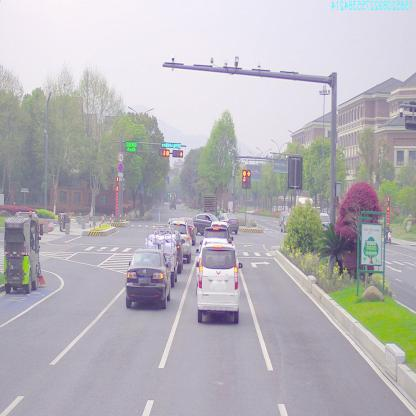traffic-light: (160, 143, 181, 148), (173, 150, 184, 158), (160, 150, 170, 157)
